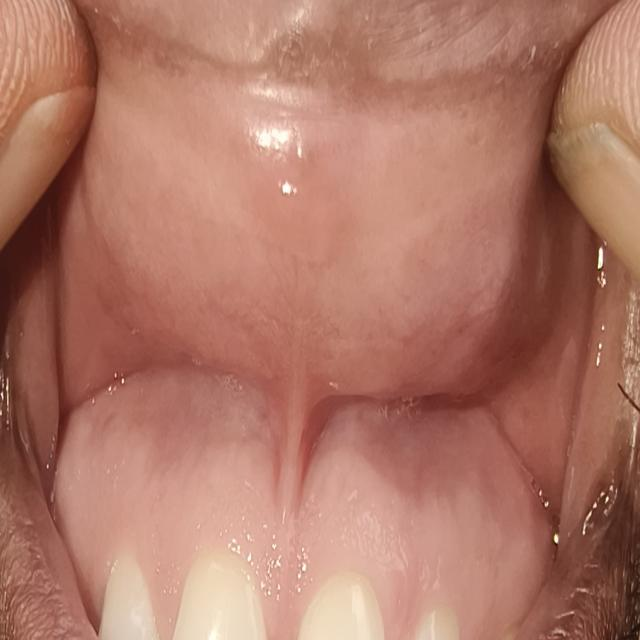processing_area: (8, 0, 607, 639)
